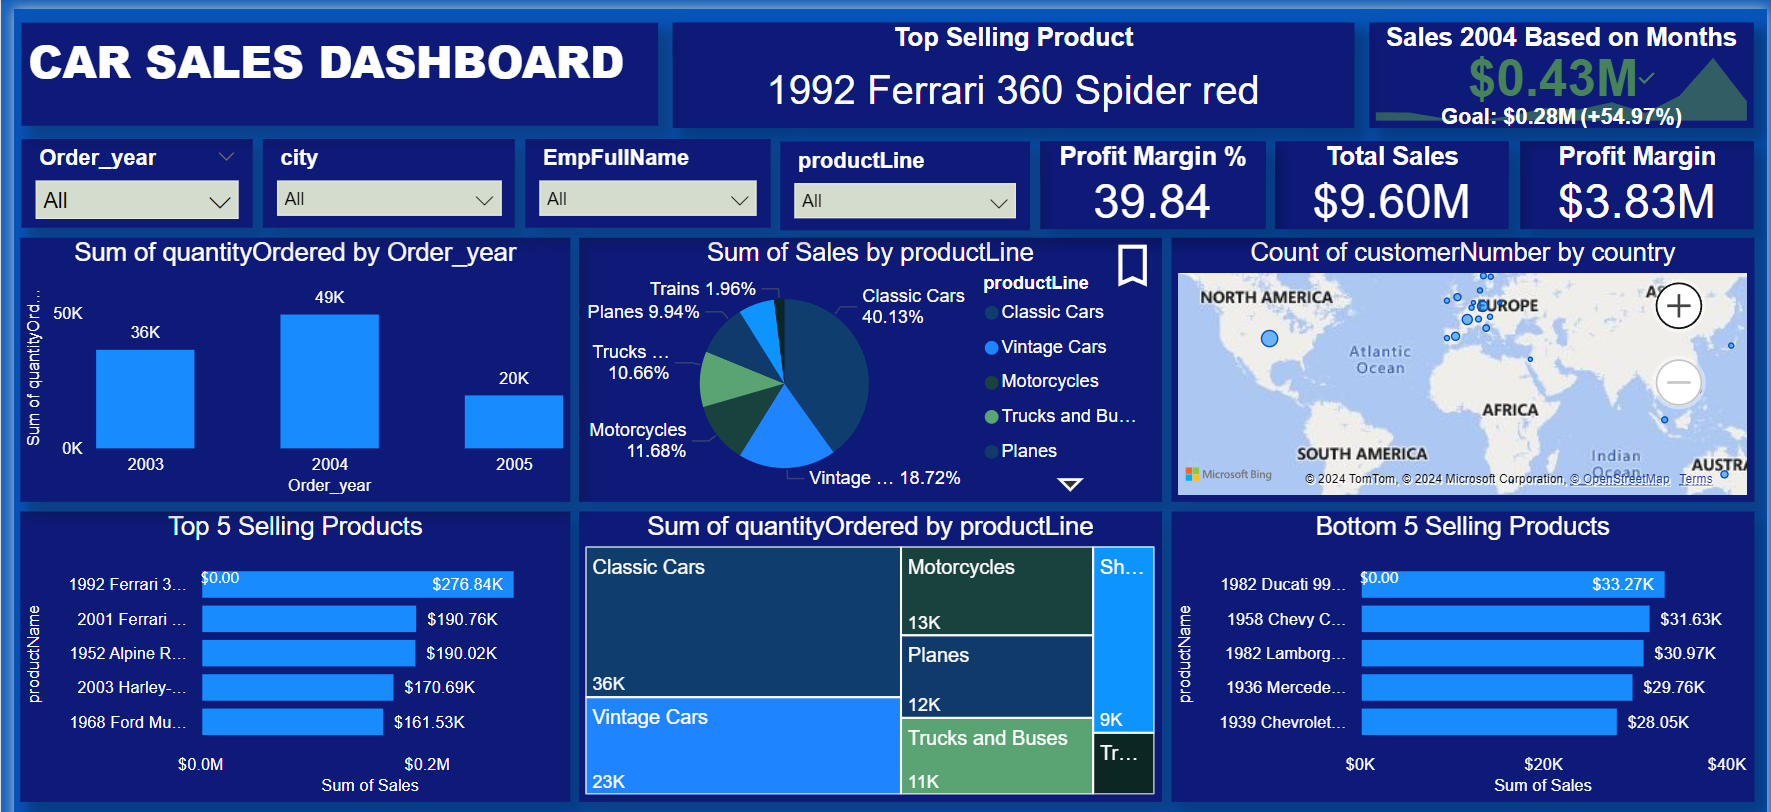

This screenshot's page, from the dashboard's own definition file:
{"tool":"powerbi","page":{"name":"Page 1","canvas":[1280,720],"ordinal":0},"visuals":[{"type":"card","title":"Profit Margin","fields":{"Values":["Order Details.Total_Profit"]},"box":[1100,96.4,170.8,63.9],"z":0},{"type":"barChart","title":"Top 5 Selling Products","fields":{"Category":["Products.productName"],"Y":["Order Details.Sales"]},"box":[4.6,366.9,401.5,211.7],"z":1000},{"type":"pieChart","fields":{"Category":["Productlines.productLine"],"Y":["Order Details.Sales"]},"box":[412.5,167,425.3,192.6],"z":2000},{"type":"slicer","fields":{"Values":["Orders.Order_year"]},"box":[5.2,95.3,168.7,65],"z":3000},{"type":"kpi","title":"Sales 2004 Based on Months","fields":{"Indicator":["Orders.Sales_2004"],"Goal":["Orders.Sales_2003"],"TrendLine":["Orders.Month Name"]},"box":[989.2,10,281.1,76.7],"z":4000},{"type":"card","title":"Top Selling Product","fields":{"Values":["Order Details.Most Ordered Product"]},"box":[480.9,10,497.4,76.7],"z":5000},{"type":"map","fields":{"Size":["Customers.customerNumber"],"Category":["Customers.country"]},"box":[845.1,167,425.3,192.6],"z":6000},{"type":"treemap","fields":{"Group":["Productlines.productLine"],"Values":["Order Details.quantityOrdered"]},"box":[412.5,366.9,425.3,211.7],"z":7000},{"type":"clusteredColumnChart","fields":{"Category":["Orders.Order_year"],"Y":["Order Details.quantityOrdered"]},"box":[4.6,167,401.5,192.6],"z":8000},{"type":"card","title":"Total Sales","fields":{"Values":["Order Details.Sales"]},"box":[920.9,96.4,170.8,63.9],"z":9000},{"type":"card","title":"Profit Margin %","fields":{"Values":["classic_models_dataset.Profit_Margin_%"]},"box":[749.1,96.4,164.5,63.9],"z":10000},{"type":"slicer","fields":{"Values":["Offices.city"]},"box":[181.2,95.3,184.4,65],"z":11000},{"type":"slicer","fields":{"Values":["Employees.EmpFullName"]},"box":[373,95.3,179.1,65],"z":12000},{"type":"slicer","fields":{"Values":["Productlines.productLine"]},"box":[559.4,96.4,182.3,65],"z":13000},{"type":"barChart","title":"Bottom 5 Selling Products","fields":{"Category":["Products.productName"],"Y":["Order Details.Sales"]},"box":[845.1,366.9,425.3,211.7],"z":14000},{"type":"actionButton","box":[796.7,167,41.1,40.2],"z":15000},{"type":"textbox","box":[5.2,10.5,465.1,75.4],"z":16000}]}

Visuals, with their boxes on the page's 1280x720 design canvas (x1, y1, x2, y2). These are canvas units, not pixel positions in the 1771x812 screenshot, which may show the page scaled, cropped or inside an application window:
"Profit Margin" card: <bbox>1100, 96, 1271, 160</bbox>
"Top 5 Selling Products" barChart: <bbox>5, 367, 406, 579</bbox>
pieChart - Productlines.productLine x Order Details.Sales: <bbox>412, 167, 838, 360</bbox>
slicer - Orders.Order_year: <bbox>5, 95, 174, 160</bbox>
"Sales 2004 Based on Months" kpi: <bbox>989, 10, 1270, 87</bbox>
"Top Selling Product" card: <bbox>481, 10, 978, 87</bbox>
map - Customers.customerNumber x Customers.country: <bbox>845, 167, 1270, 360</bbox>
treemap - Productlines.productLine x Order Details.quantityOrdered: <bbox>412, 367, 838, 579</bbox>
clusteredColumnChart - Orders.Order_year x Order Details.quantityOrdered: <bbox>5, 167, 406, 360</bbox>
"Total Sales" card: <bbox>921, 96, 1092, 160</bbox>
"Profit Margin %" card: <bbox>749, 96, 914, 160</bbox>
slicer - Offices.city: <bbox>181, 95, 366, 160</bbox>
slicer - Employees.EmpFullName: <bbox>373, 95, 552, 160</bbox>
slicer - Productlines.productLine: <bbox>559, 96, 742, 161</bbox>
"Bottom 5 Selling Products" barChart: <bbox>845, 367, 1270, 579</bbox>
actionButton: <bbox>797, 167, 838, 207</bbox>
textbox: <bbox>5, 10, 470, 86</bbox>
